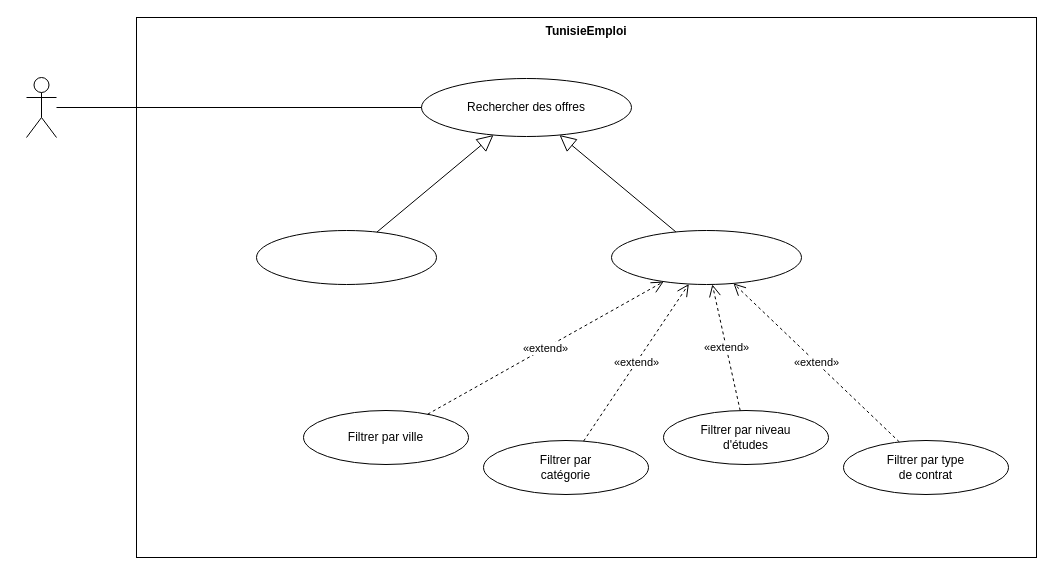
This 1054x575 diagram has some shape labels left out. Each missing label, with the centre of its shape:
"Candidat" goes at (x=41, y=107).
"Recherche avancée (filtres)" goes at (x=706, y=257).
"Recherche simple (mot-clé)" goes at (x=346, y=257).
